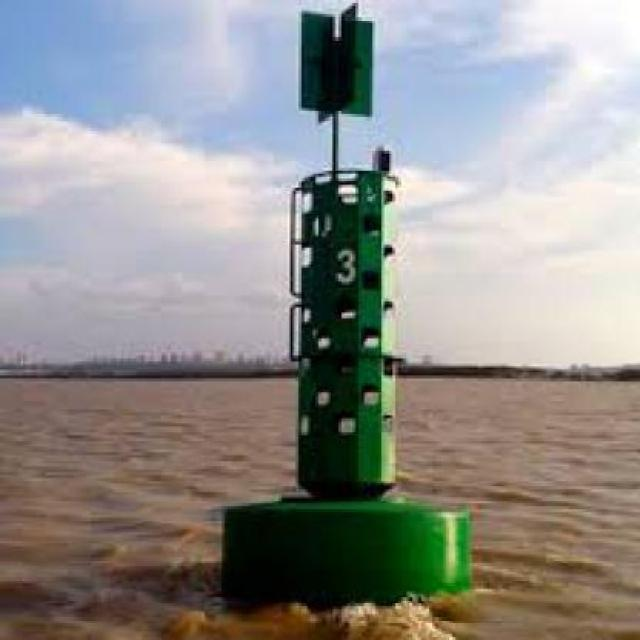buoy: (197, 3, 488, 619)
